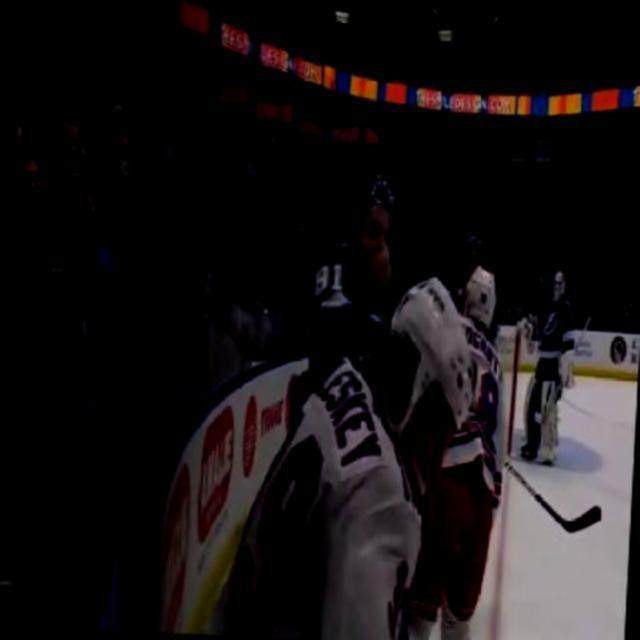fight: (272, 156, 486, 638)
non-fight: (516, 256, 581, 469)
